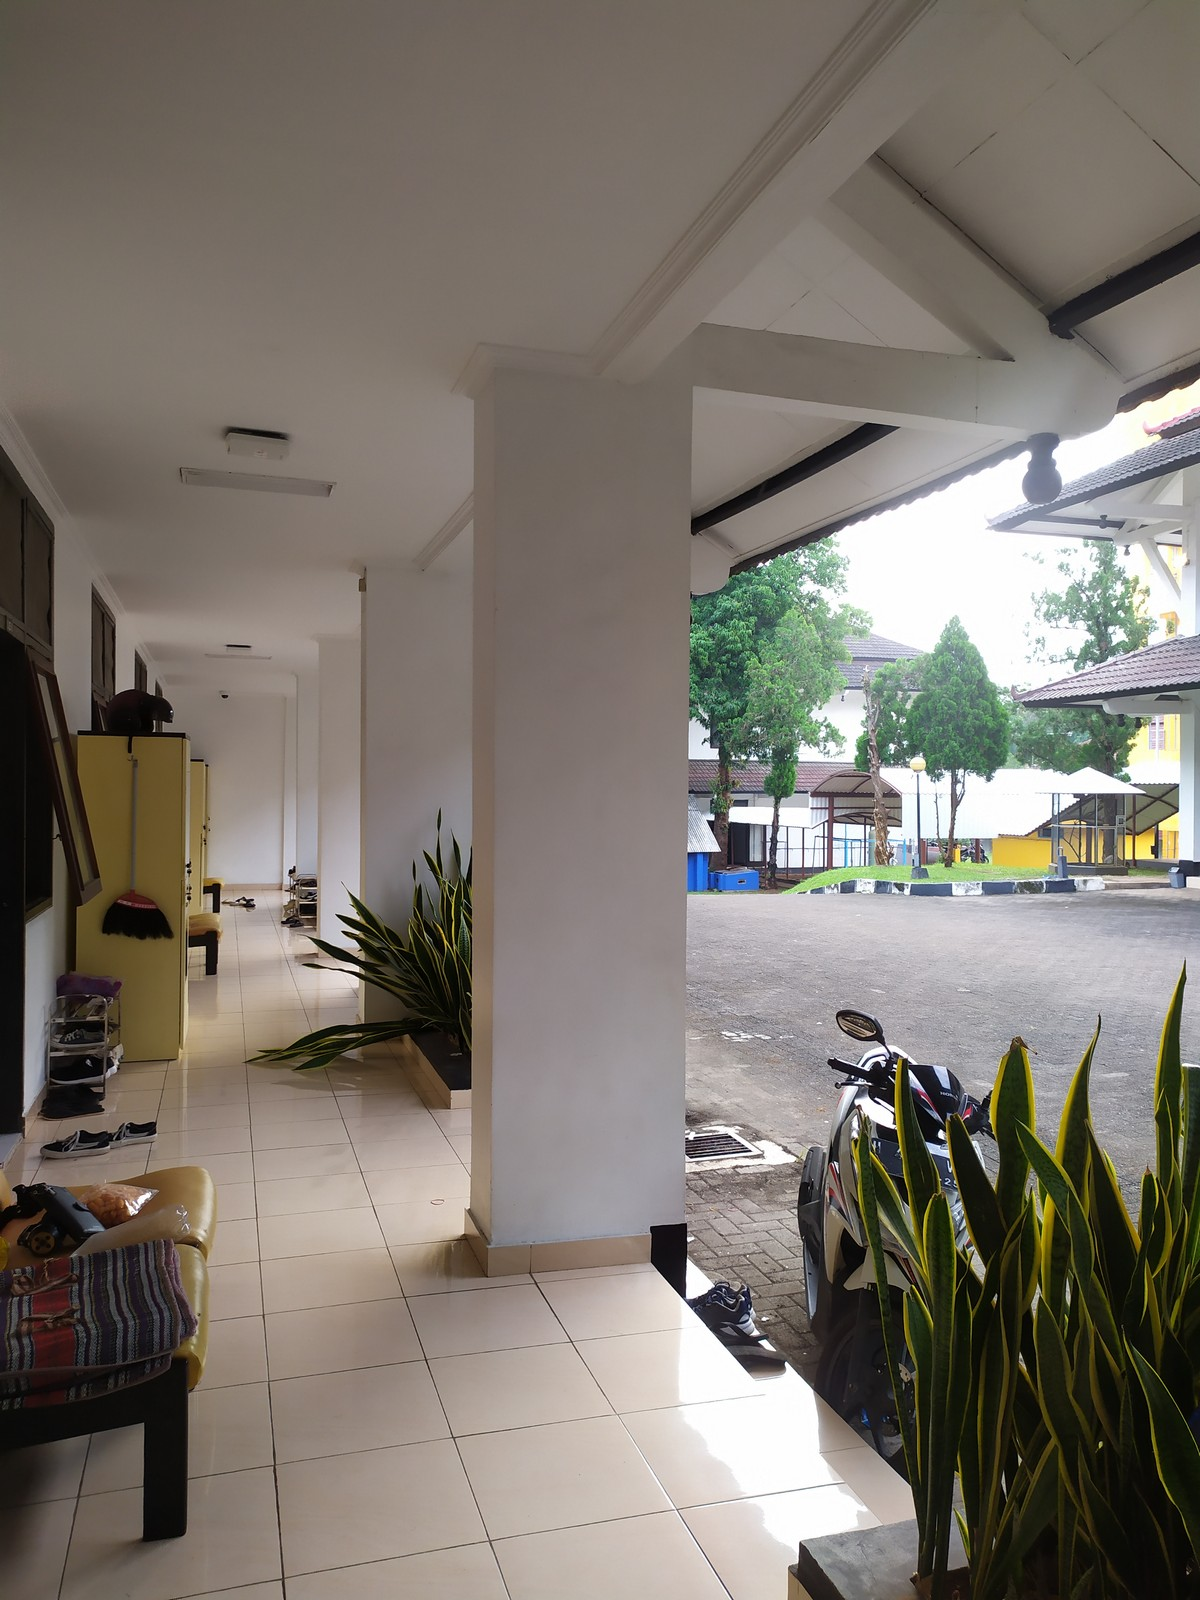concrete beam: (661, 317, 1034, 443)
concrete column: (454, 350, 705, 1283), (350, 556, 479, 1049)
